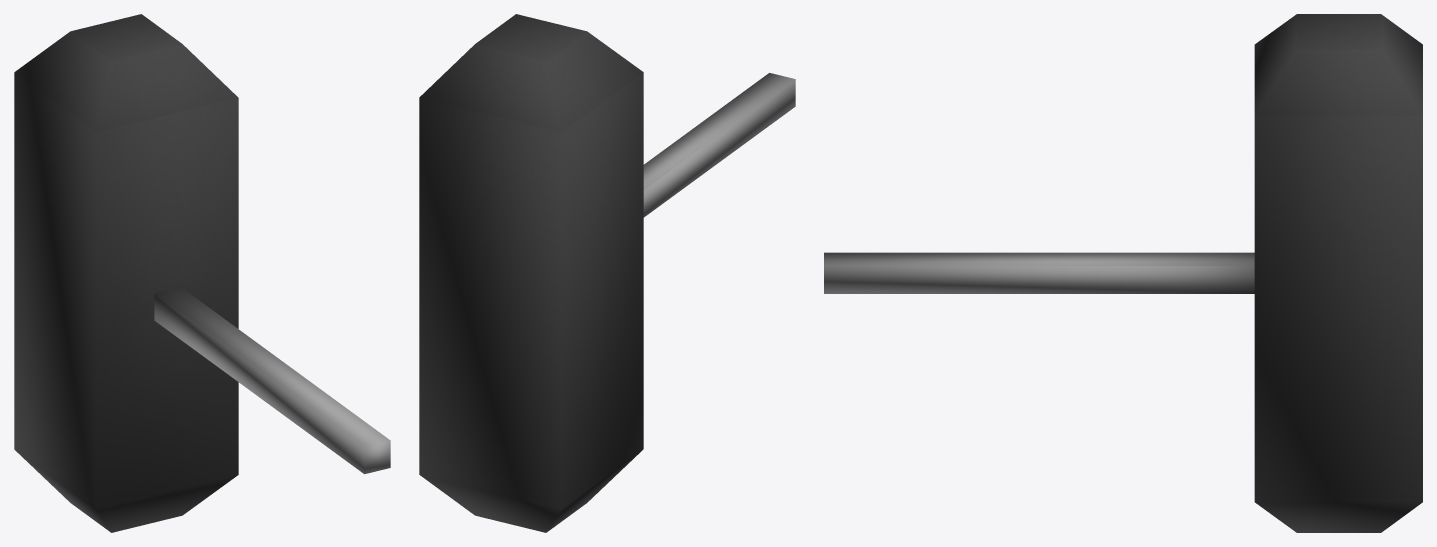
The model's file is hammer.fbx.
The picture shows the model from 3 angles, left to right: view 1: azimuth 30°, elevation 25°; view 2: azimuth 150°, elevation 25°; view 3: azimuth 270°, elevation 25°; orthographic projection. The views are drawn at different scales.
Visible parts, largest first — view 1: Handle; view 2: Handle; view 3: Handle.
Part boxes in pixels (bbox=[...]): Handle: bbox=[14, 14, 390, 532]; Handle: bbox=[419, 14, 795, 532]; Handle: bbox=[824, 14, 1422, 532].
Bounding box in the file's own units: 29.47 × 93.44 × 105.
1 material, 1 textured.
